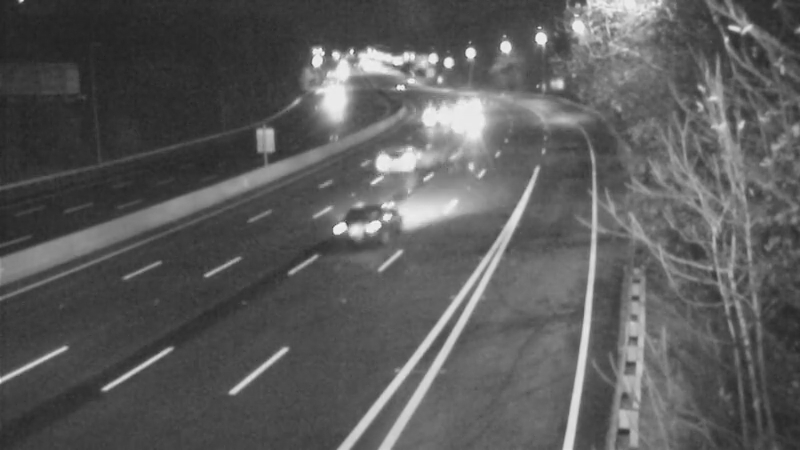vehicle: (359, 117, 439, 197), (317, 177, 397, 257), (442, 79, 492, 129), (412, 86, 462, 136), (444, 102, 494, 152), (306, 73, 356, 123)
